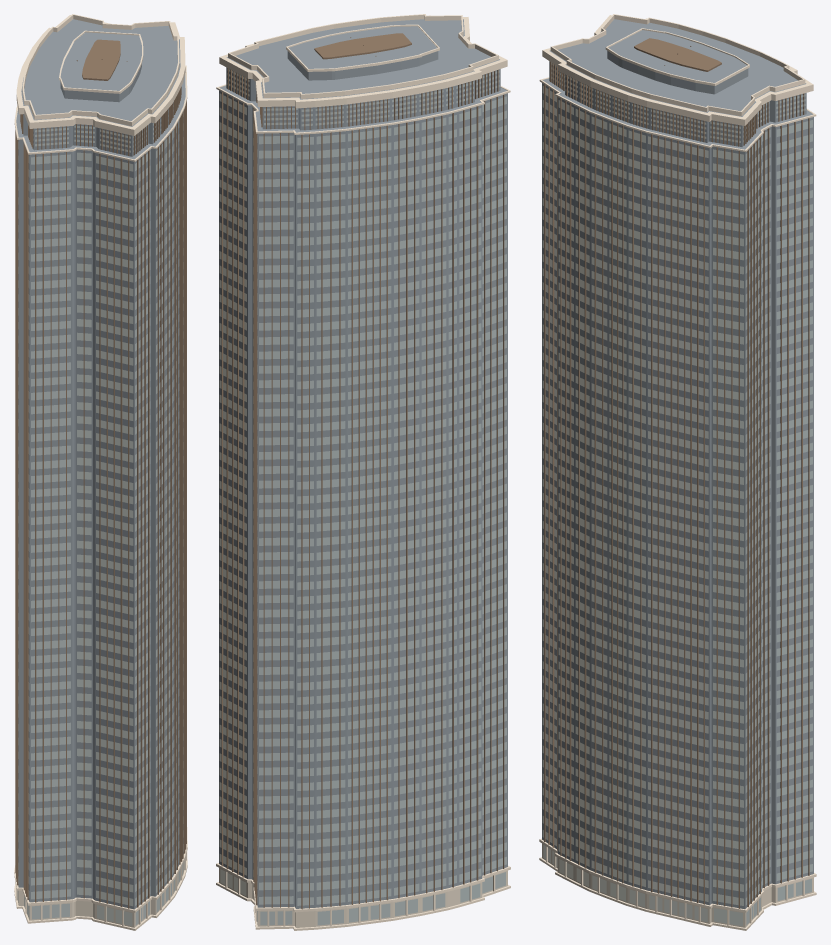
File: detail.glb
3 renders of one model, left to right at view 1: azimuth 30°, elevation 25°; view 2: azimuth 150°, elevation 25°; view 3: azimuth 270°, elevation 25°, orthographic. The views are drawn at different scales.
Visible parts, largest first — view 1: roof, window, metal, trim, stone; view 2: roof, window, metal, trim, stone; view 3: roof, window, metal, trim, stone.
Part boxes in pixels (x1=…): roof: x1=16, y1=19, x2=185, y2=909; window: x1=17, y1=101, x2=184, y2=925; metal: x1=15, y1=39, x2=186, y2=908; trim: x1=14, y1=14, x2=187, y2=930; stone: x1=17, y1=862, x2=184, y2=927; roof: x1=219, y1=19, x2=507, y2=908; window: x1=219, y1=68, x2=506, y2=925; metal: x1=221, y1=33, x2=504, y2=909; trim: x1=216, y1=14, x2=510, y2=930; stone: x1=219, y1=868, x2=507, y2=927; roof: x1=542, y1=19, x2=813, y2=909; window: x1=542, y1=62, x2=812, y2=926; metal: x1=544, y1=38, x2=809, y2=908; trim: x1=539, y1=14, x2=816, y2=930; stone: x1=542, y1=843, x2=813, y2=927.
Size of the model in its own units: 58.61 by 210 by 64.08.
